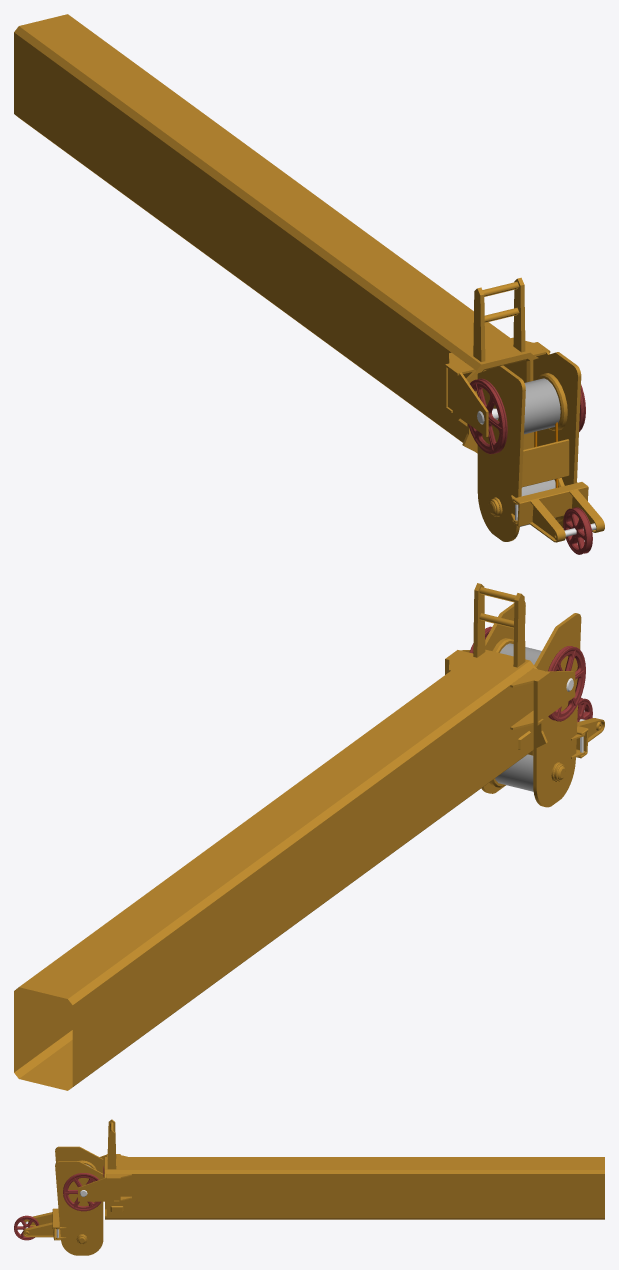
Rendered from MobileCrane_Arm_03a_snaps005.fbx.
3 views of the same model, one above another, from view 1: azimuth 30°, elevation 25°; view 2: azimuth 150°, elevation 25°; view 3: azimuth 270°, elevation 25° (orthographic). The views are drawn at different scales.
Visible parts, largest first — view 1: crane_arm03; view 2: crane_arm03; view 3: crane_arm03.
Boxes of the visible parts, left/top/right/bottom form: crane_arm03: left=14, top=14, right=604, bottom=554; crane_arm03: left=14, top=583, right=604, bottom=1090; crane_arm03: left=14, top=1119, right=604, bottom=1255.
Bounding box in the file's own units: 67.98 × 160 × 695.
